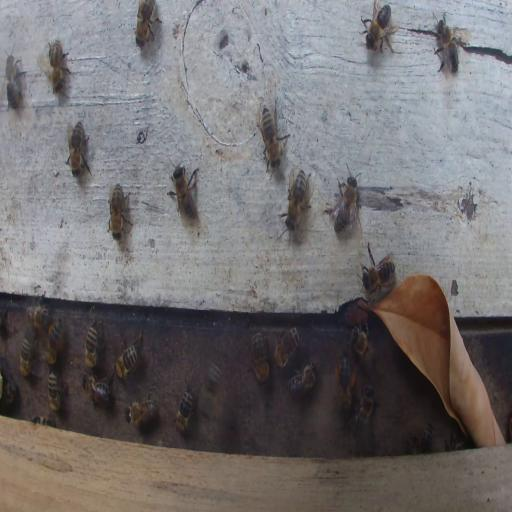bee: (326, 164, 362, 236), (430, 12, 466, 76), (259, 102, 289, 168), (284, 167, 311, 237), (361, 2, 397, 54), (170, 163, 198, 225), (347, 385, 376, 439), (361, 250, 396, 293), (106, 183, 133, 238), (66, 119, 91, 177), (335, 352, 357, 416), (134, 0, 162, 48), (46, 38, 70, 94), (114, 332, 141, 381), (272, 326, 302, 368), (42, 313, 64, 369), (5, 52, 25, 109), (125, 394, 158, 428), (286, 361, 318, 396), (82, 373, 112, 408), (350, 327, 374, 368), (174, 387, 195, 432), (251, 331, 269, 383), (47, 372, 67, 412), (409, 423, 435, 453), (85, 321, 99, 369), (27, 303, 48, 330), (20, 335, 32, 379), (2, 376, 17, 409), (32, 414, 53, 424)
